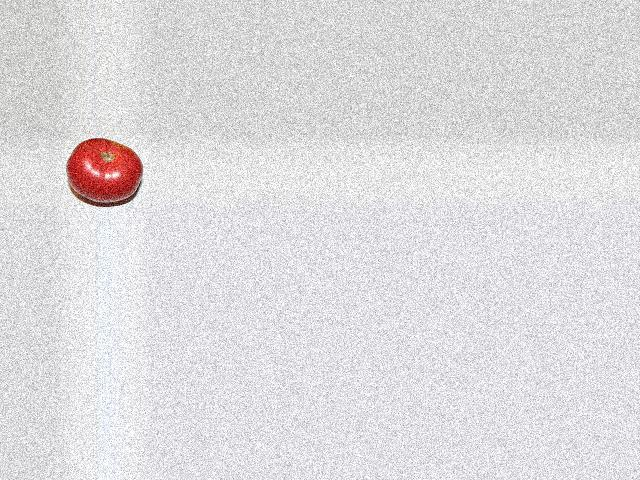tomato: (65, 137, 143, 201)
